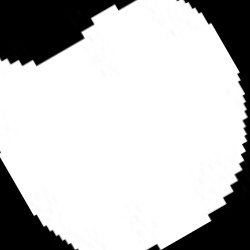spot: (2, 1, 246, 249)
